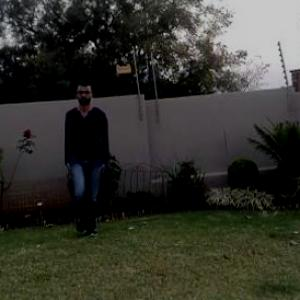follow: (64, 80, 116, 234)
